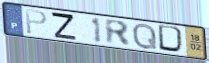1: (90, 17, 102, 44)
D: (157, 24, 187, 55)
P: (24, 8, 49, 35)
Q: (131, 22, 159, 50)
R: (103, 17, 133, 48)
Z: (49, 11, 78, 42)
